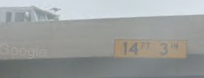1: (120, 40, 130, 57)
3: (156, 39, 170, 58)
4: (127, 40, 140, 57)
overheadsign: (113, 37, 187, 59)
